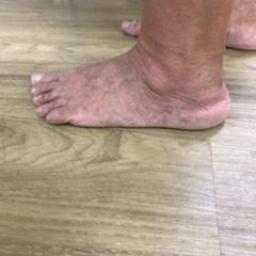Lateral View -Left Foot-: (17, 24, 243, 150)
